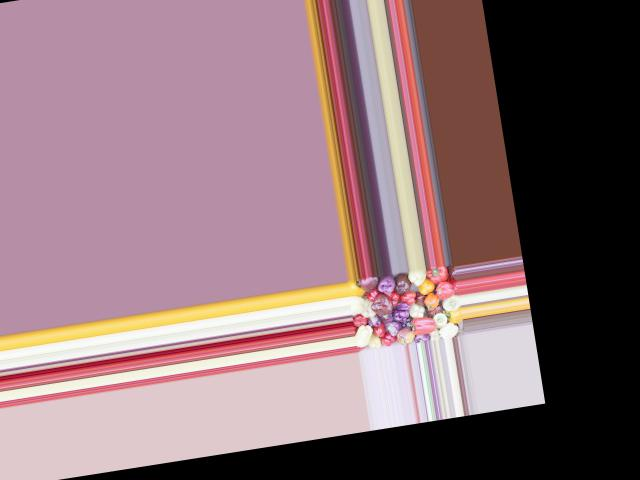bell_pepper: (439, 295, 460, 310)
